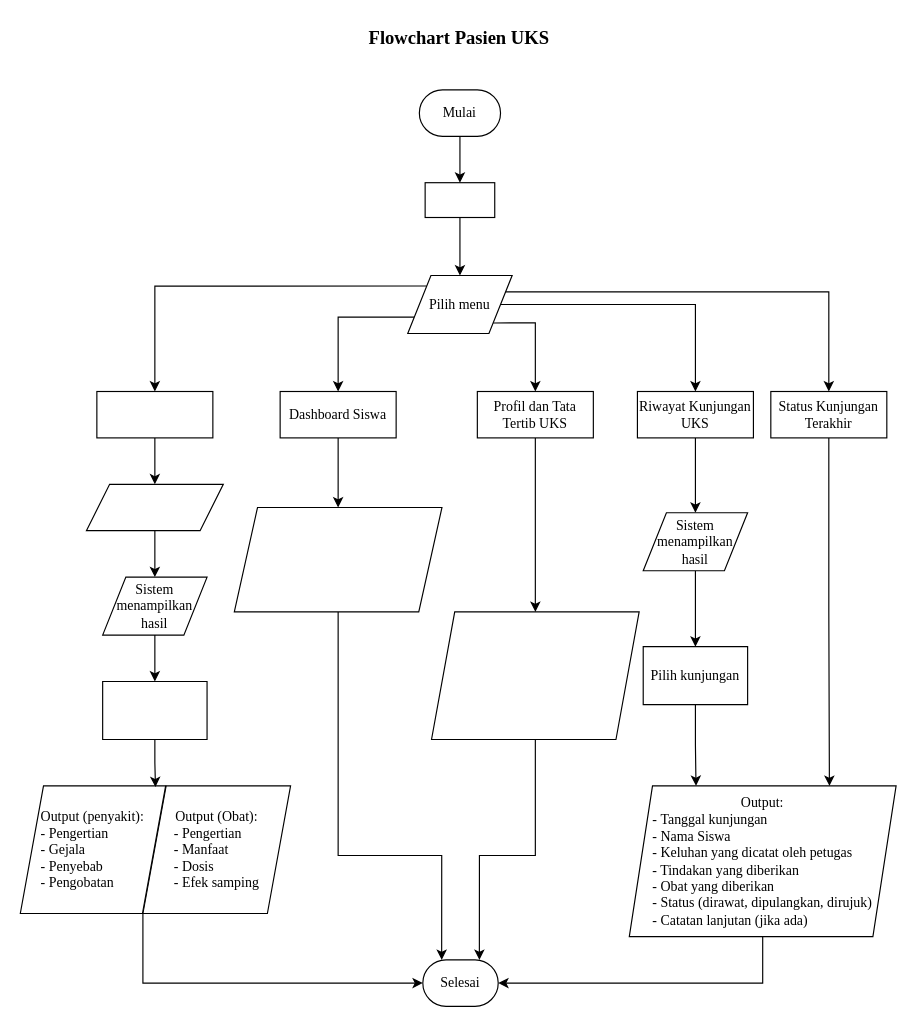
Image size: 916x1027. Some labels were removed from this diagram. Here are the shapes that lost their labels. From the top down, the box of each, then its label:
(424, 182, 495, 217): Login
(96, 390, 213, 438): Edukasi Kesehatan
(85, 483, 223, 531): Input kata kunci penyakit/obat
(233, 506, 442, 612): Output: - Total Kunjungan - Status Terakhir - Jumlah Kunjungan per Bulan
(430, 611, 639, 740): Output: - Definisi UKS - Visi Misi - Tata Tertib - Daftar Petugas UKS
(102, 680, 207, 740): Pilih penyakit/obat
